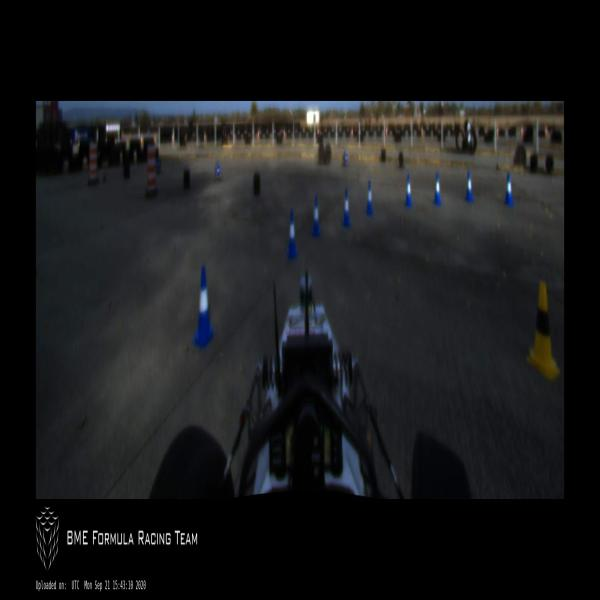blue_cone: (192, 265, 215, 347), (285, 208, 299, 260), (310, 194, 322, 240), (340, 184, 352, 228), (504, 172, 514, 205), (364, 181, 373, 214), (433, 172, 441, 206), (404, 174, 412, 207), (464, 172, 473, 200)
yellow_cone: (527, 282, 557, 380)
